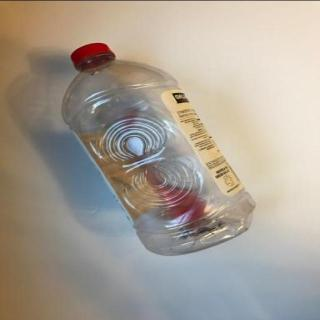Anorganik: (57, 35, 265, 263)
